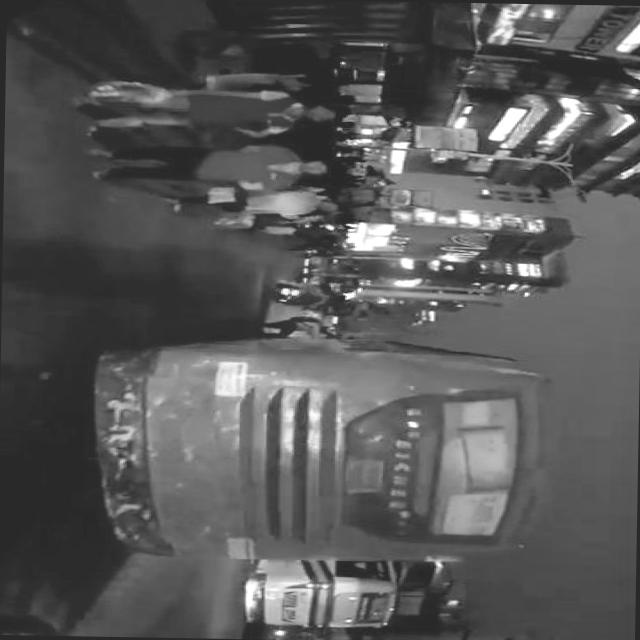bus: (89, 329, 564, 566), (246, 556, 401, 626)
motorcycle: (271, 282, 310, 302)
